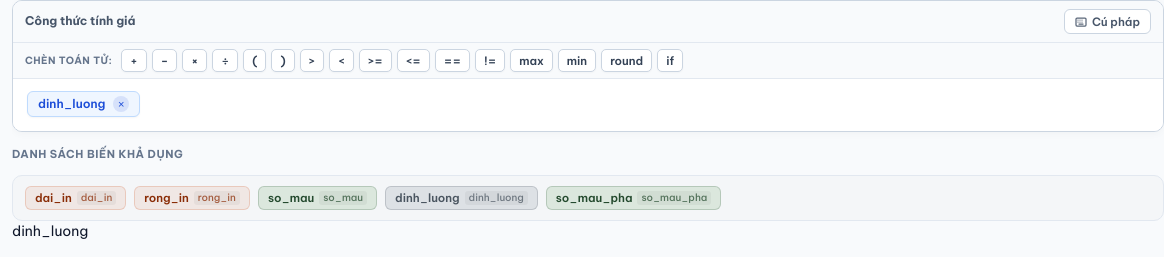
Test: thao tác trên ô công thức › bấm chip biến rồi bấm toán tử → công thức nối thêm (insertVar)
What coordinates should you click on to do the following:
click the button titled "Nhân" next to "Chèn toán tử:"
I would click on:
 (195, 60)
Its box is [182, 49, 207, 72].
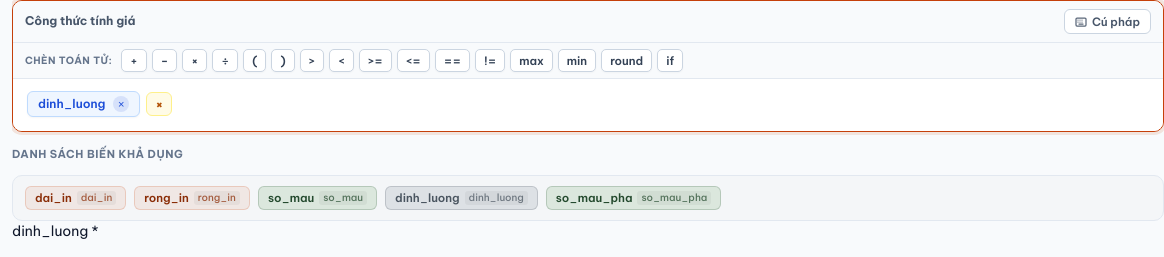
Expected: the text with test id "ct" reads "dinh_luong *", [12, 222, 98, 240]
